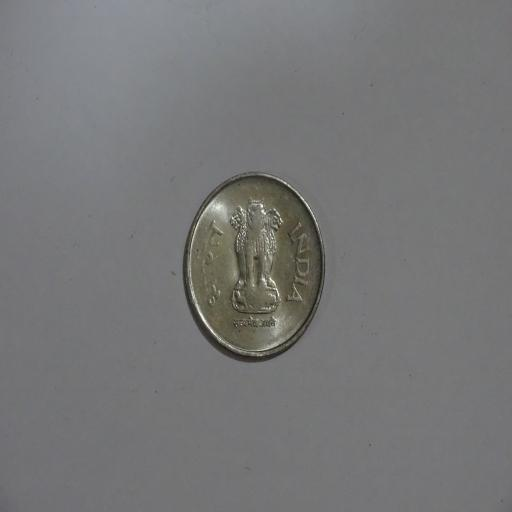rupee1: (182, 173, 325, 358)
